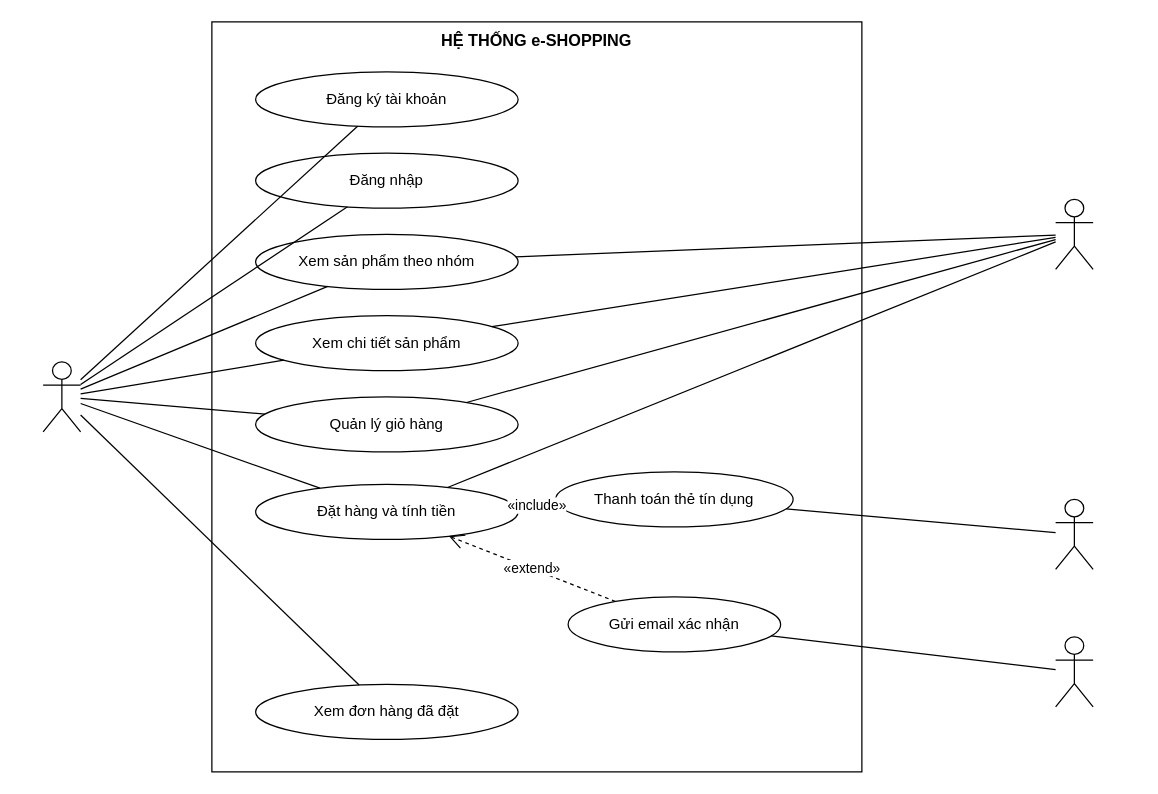
This 1158x794 diagram has some shape labels left out. Here are the shapes that lost their labels. From the top down, the box of each, then its label:
(1054, 198, 1093, 269): Hệ thống quản lý sản phẩm «hệ thống ngoài»
(42, 361, 81, 432): Khách hàng
(1054, 498, 1093, 569): Dịch vụ thanh toán trực tuyến «hệ thống ngoài»
(1054, 636, 1093, 707): Dịch vụ email «hệ thống ngoài»
